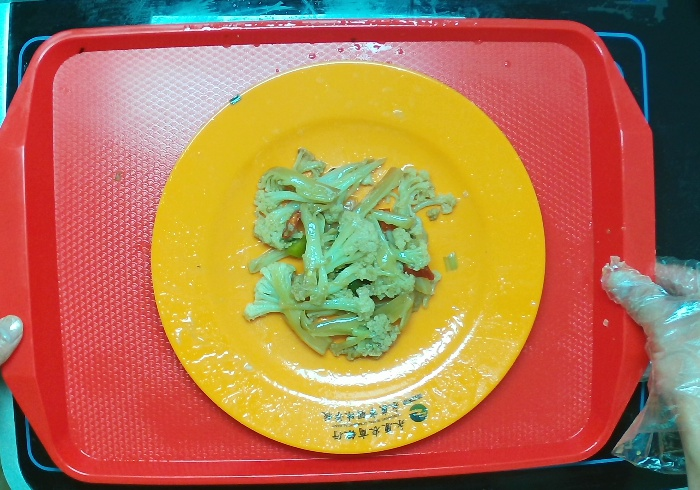YKMZ-Ju_Se_Mian_Pan: (146, 58, 545, 455)
